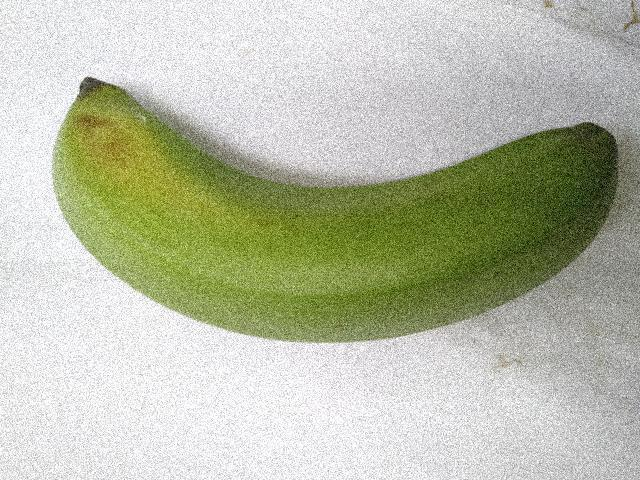freshunripe: (39, 64, 625, 367)
